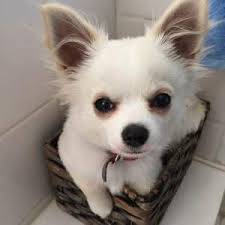chihuahua: (42, 1, 202, 212)
